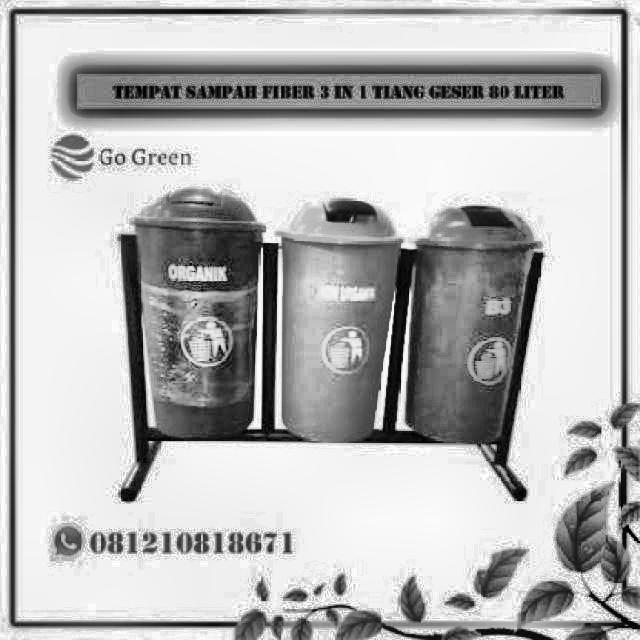Dustbin: (123, 180, 266, 448), (266, 192, 402, 460), (407, 200, 544, 456)
